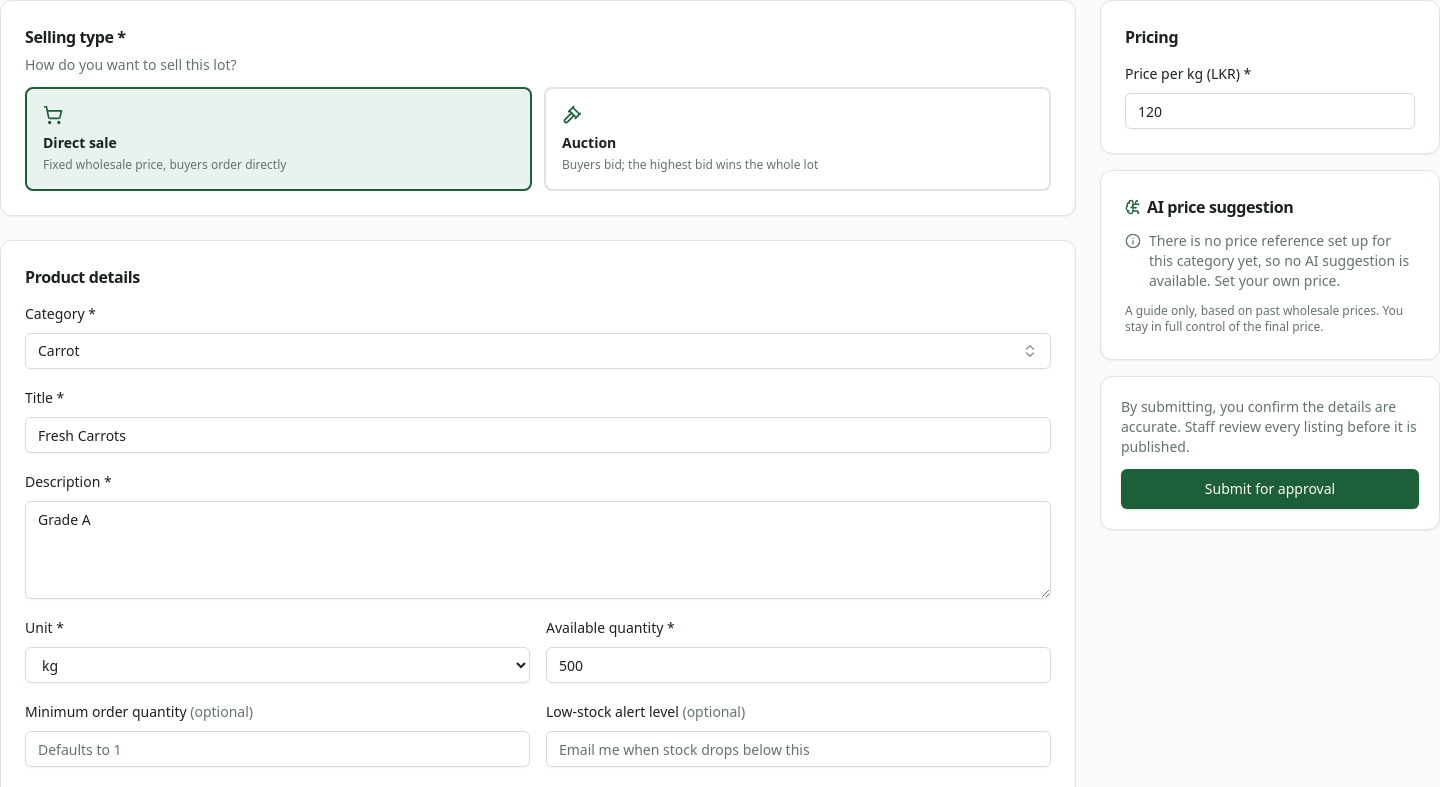
Scenario: ListingForm: creating › shows the action's field errors and message
Click the button "Submit for approval" at (1270, 489), box [1121, 469, 1419, 509]
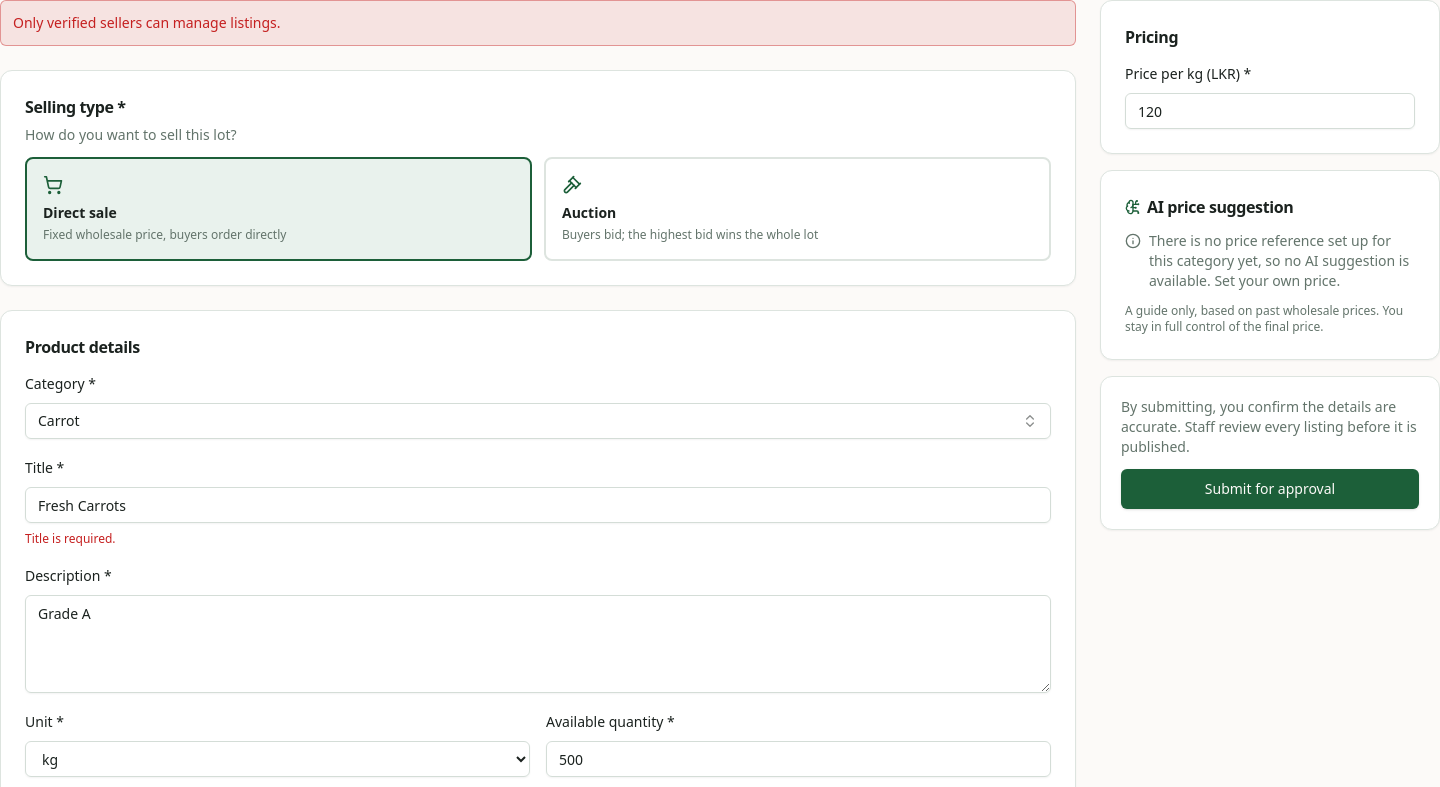
Result: the text "Title is required." is shown at [25, 530, 116, 547]
Result: the message reads "Only verified sellers can manage listings." at [13, 13, 281, 32]
